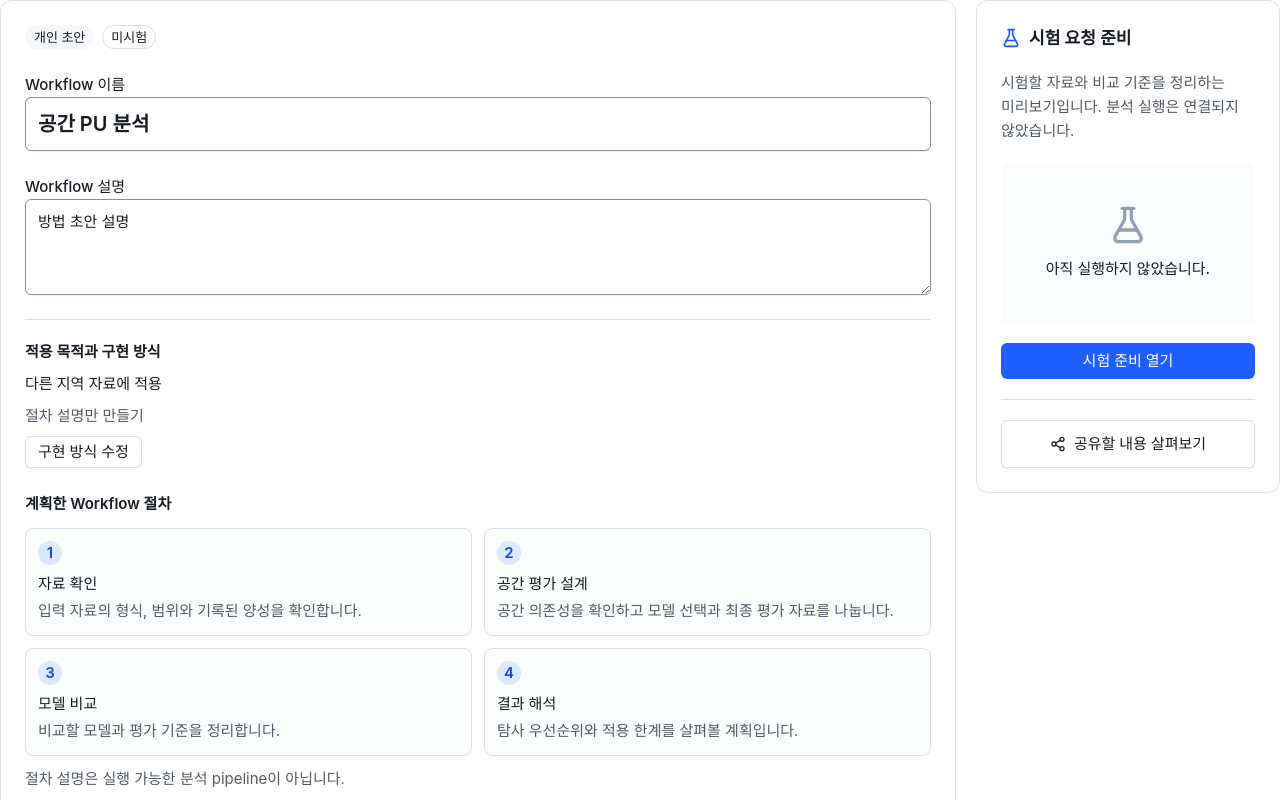
draft and illustrative dialogs › restores keyboard focus to the opener after dismissing a controlled dialog
Click the button "시험 준비 열기" at (1128, 361), box [1001, 343, 1255, 379]
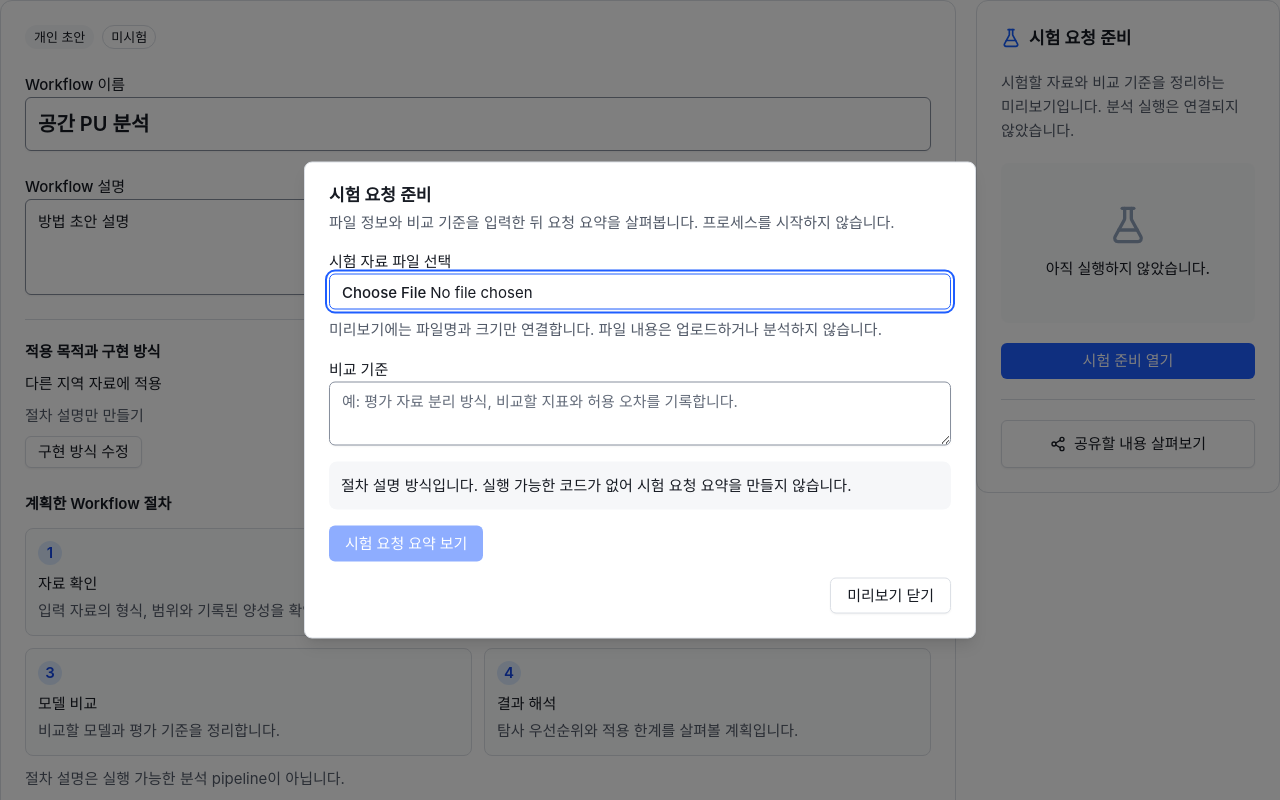
Check: the dialog is shown, box [304, 162, 976, 638]
Press Escape
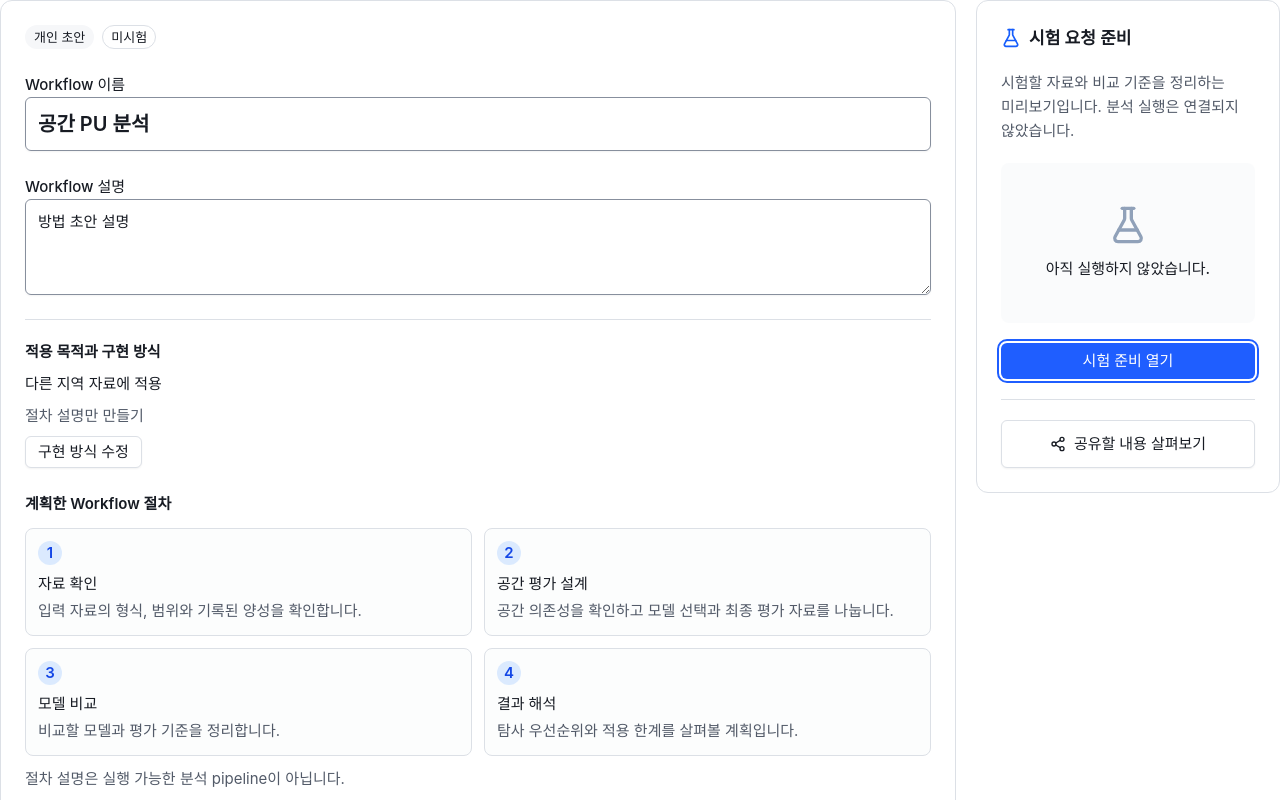
Check: the dialog is gone
